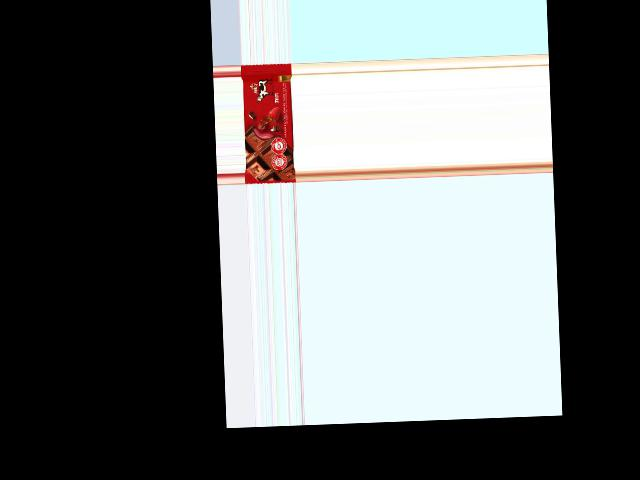chocolate: (241, 62, 296, 184)
